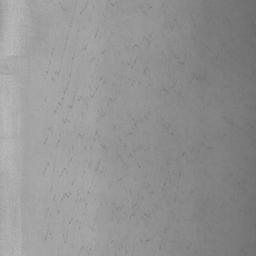Silk spot: (0, 0, 4, 41), (192, 72, 206, 80)
